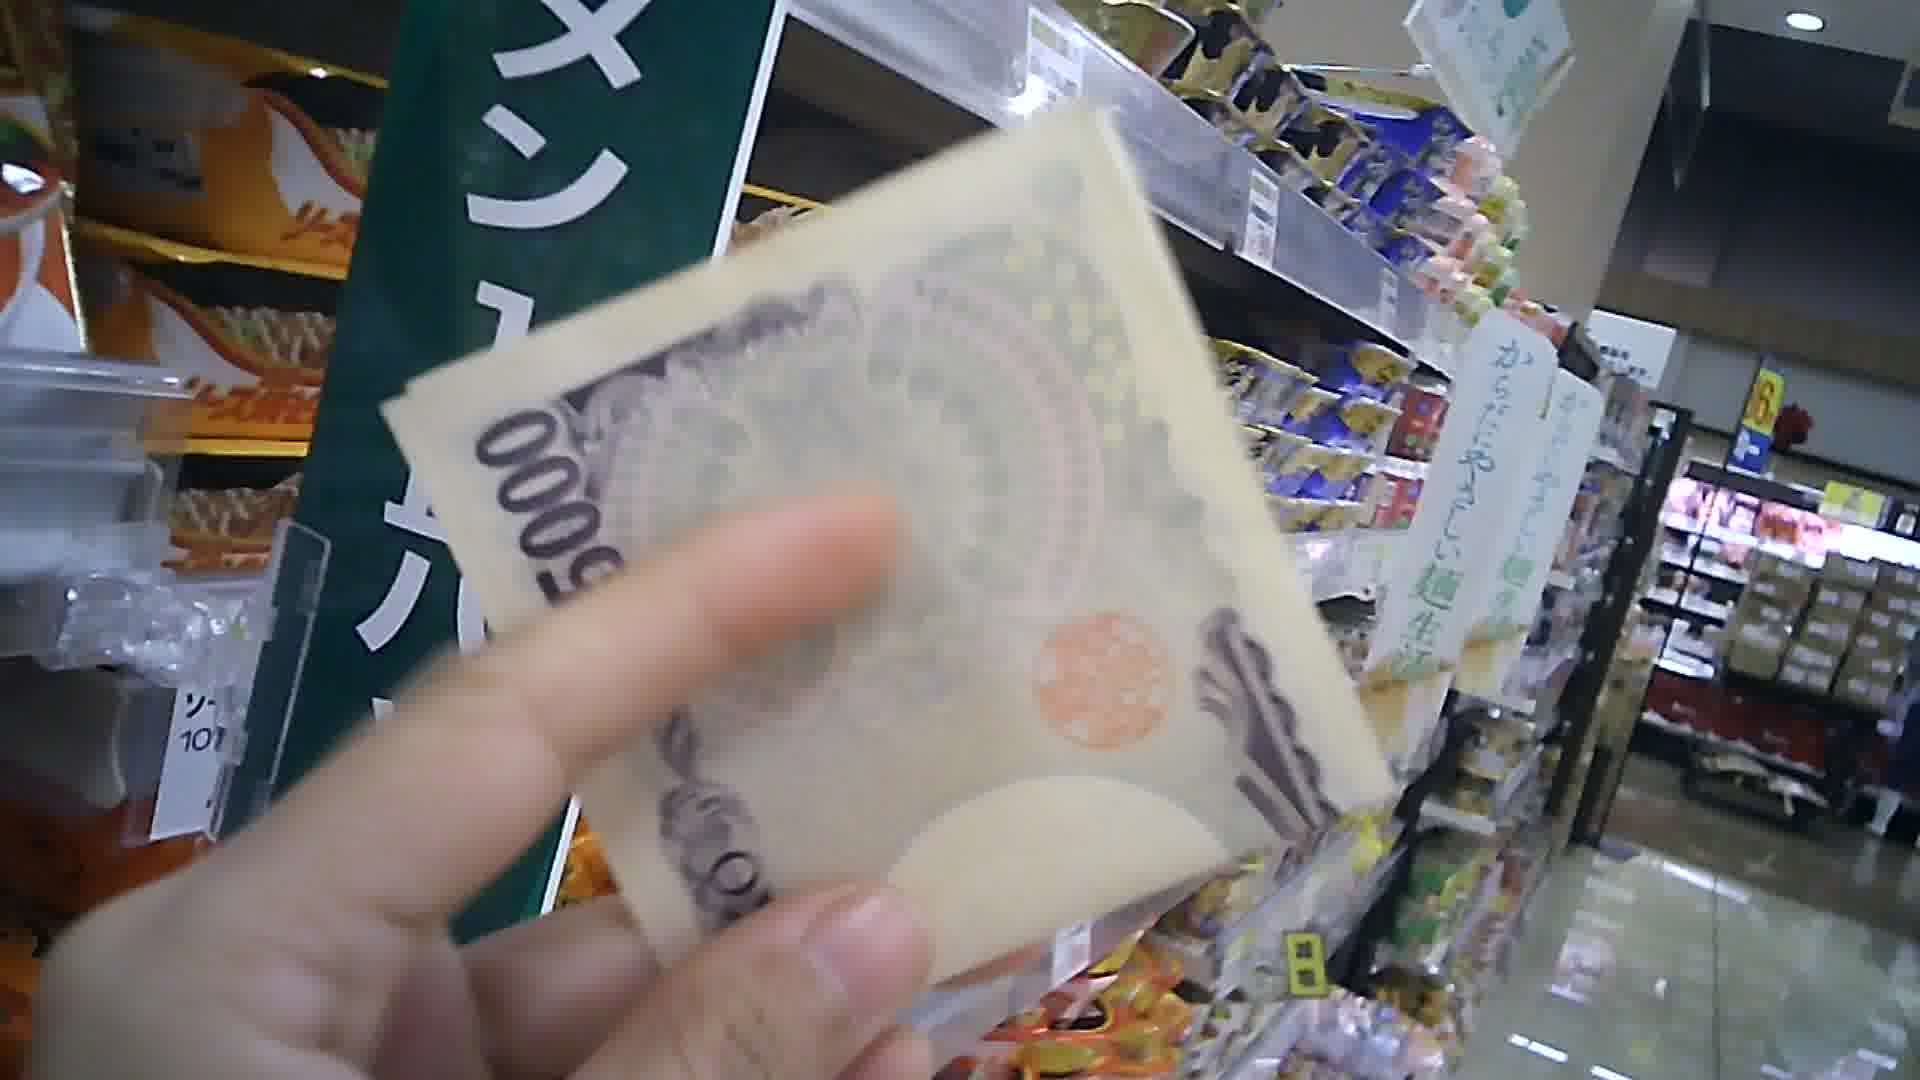5,000 Yen: (394, 113, 1404, 1038)
